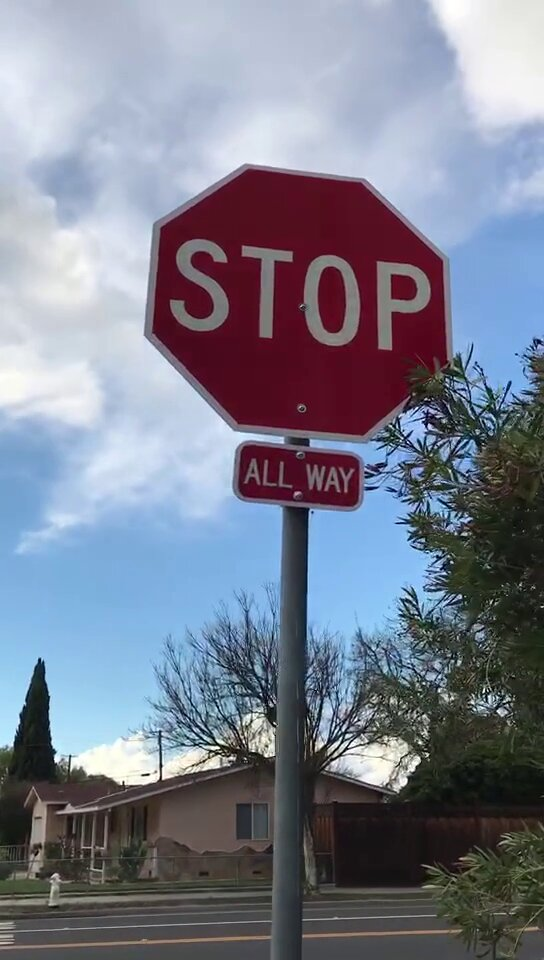stop_sign: (148, 167, 453, 439)
